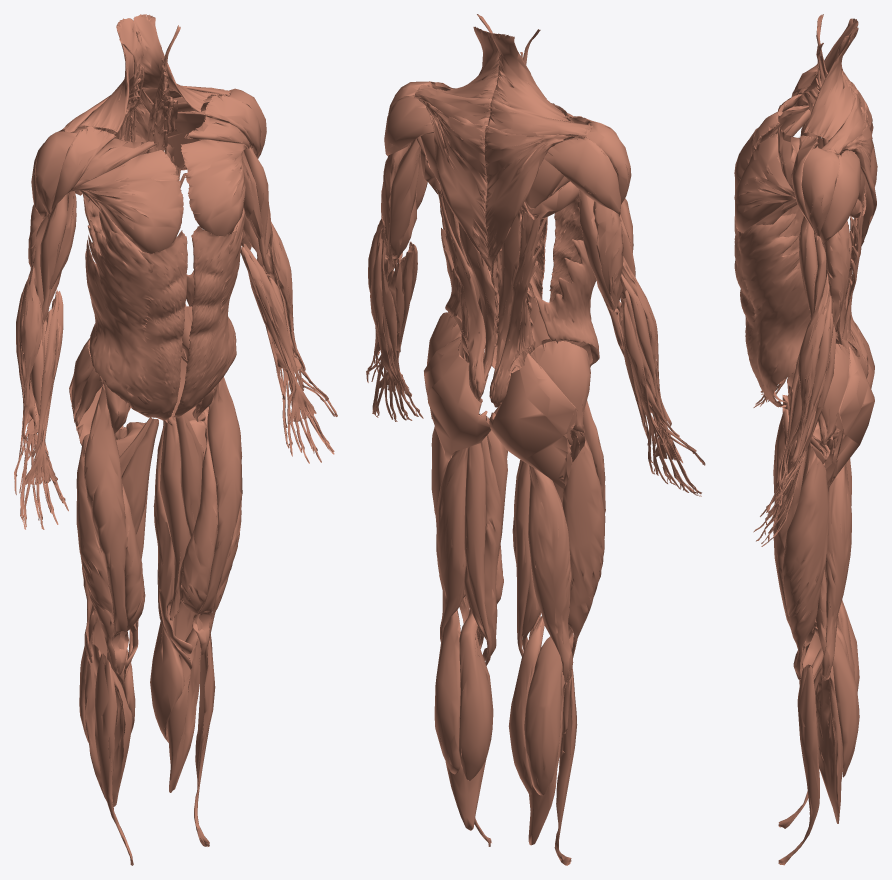
The model's file is sbla005-representative.glb.
3 renders of one model, left to right at view 1: azimuth 30°, elevation 25°; view 2: azimuth 150°, elevation 25°; view 3: azimuth 270°, elevation 25°, orthographic. The views are drawn at different scales.
Visible parts, largest first — view 1: BP3D_FJ1452, BP3D_FJ1452M, BP3D_FJ1464, BP3D_FJ1433, BP3D_FJ1433M, BP3D_FJ1464M, BP3D_FJ1443M, BP3D_FJ1442, BP3D_FJ1403M, BP3D_FJ1437, BP3D_FJ1437M, BP3D_FJ1439 (+35 smaller); view 2: BP3D_FJ1418, BP3D_FJ1395, BP3D_FJ1442, BP3D_FJ1520M, BP3D_FJ1452, BP3D_FJ1520, BP3D_FJ1418M, BP3D_FJ1394, BP3D_FJ1397M, BP3D_FJ1395M, BP3D_FJ1436M, BP3D_FJ1394M (+38 smaller); view 3: BP3D_FJ1452M, BP3D_FJ1442M, BP3D_FJ1395M, BP3D_FJ1464M, BP3D_FJ1418M, BP3D_FJ1437M, BP3D_FJ1439M, BP3D_FJ1521M, BP3D_FJ1467M, BP3D_FJ1394M, BP3D_FJ1487M, BP3D_FJ1513M (+32 smaller).
Boxes of the visible parts, x1,y1,x2,y2 form: BP3D_FJ1452: (85, 211, 187, 420); BP3D_FJ1452M: (171, 207, 245, 417); BP3D_FJ1464: (70, 149, 183, 253); BP3D_FJ1433: (84, 386, 128, 674); BP3D_FJ1433M: (192, 377, 242, 654); BP3D_FJ1464M: (181, 139, 246, 235); BP3D_FJ1443M: (178, 427, 217, 631); BP3D_FJ1442: (76, 433, 118, 673); BP3D_FJ1403M: (160, 416, 206, 620); BP3D_FJ1437: (84, 644, 132, 806); BP3D_FJ1437M: (167, 628, 201, 792); BP3D_FJ1439: (94, 653, 133, 865); BP3D_FJ1418: (489, 353, 577, 488); BP3D_FJ1395: (528, 465, 573, 683); BP3D_FJ1442: (562, 429, 605, 658); BP3D_FJ1520M: (425, 101, 495, 277); BP3D_FJ1452: (535, 195, 599, 365); BP3D_FJ1520: (484, 125, 574, 277); BP3D_FJ1418M: (424, 336, 490, 460); BP3D_FJ1394: (524, 636, 562, 795); BP3D_FJ1397M: (458, 612, 493, 780); BP3D_FJ1395M: (436, 447, 468, 641); BP3D_FJ1436M: (464, 443, 491, 665); BP3D_FJ1394M: (434, 610, 460, 774); BP3D_FJ1452M: (734, 213, 810, 407); BP3D_FJ1442M: (782, 441, 829, 678); BP3D_FJ1395M: (820, 464, 851, 679); BP3D_FJ1464M: (734, 133, 795, 232); BP3D_FJ1418M: (824, 347, 874, 488); BP3D_FJ1437M: (815, 666, 842, 823); BP3D_FJ1439M: (778, 664, 819, 865); BP3D_FJ1521M: (804, 27, 858, 140); BP3D_FJ1467M: (801, 147, 839, 236); BP3D_FJ1394M: (815, 626, 859, 777); BP3D_FJ1487M: (790, 269, 829, 464); BP3D_FJ1513M: (820, 151, 861, 245).
Bounding box in the file's own units: 0.6411 × 1.54 × 0.2437.
